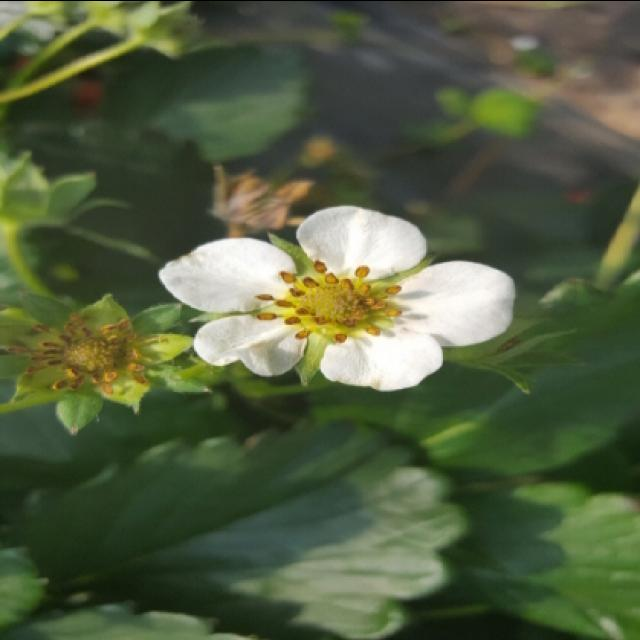Blossom Blight: (250, 253, 410, 348), (0, 312, 158, 401)
